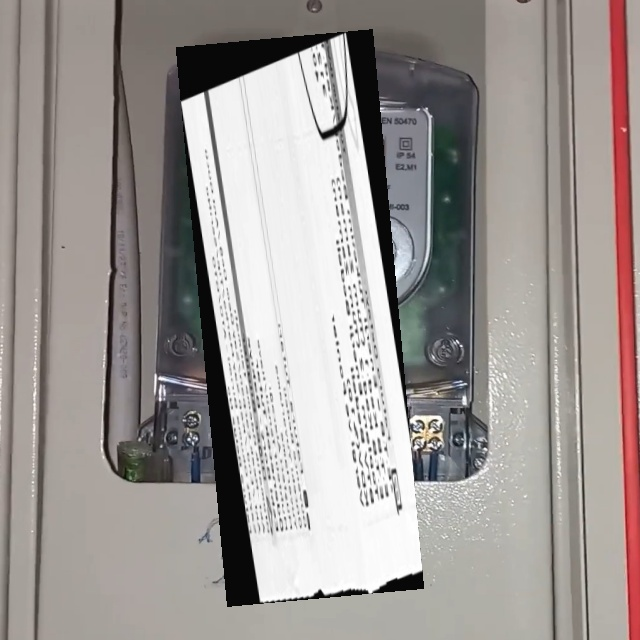electricity-bill: (176, 29, 424, 607)
